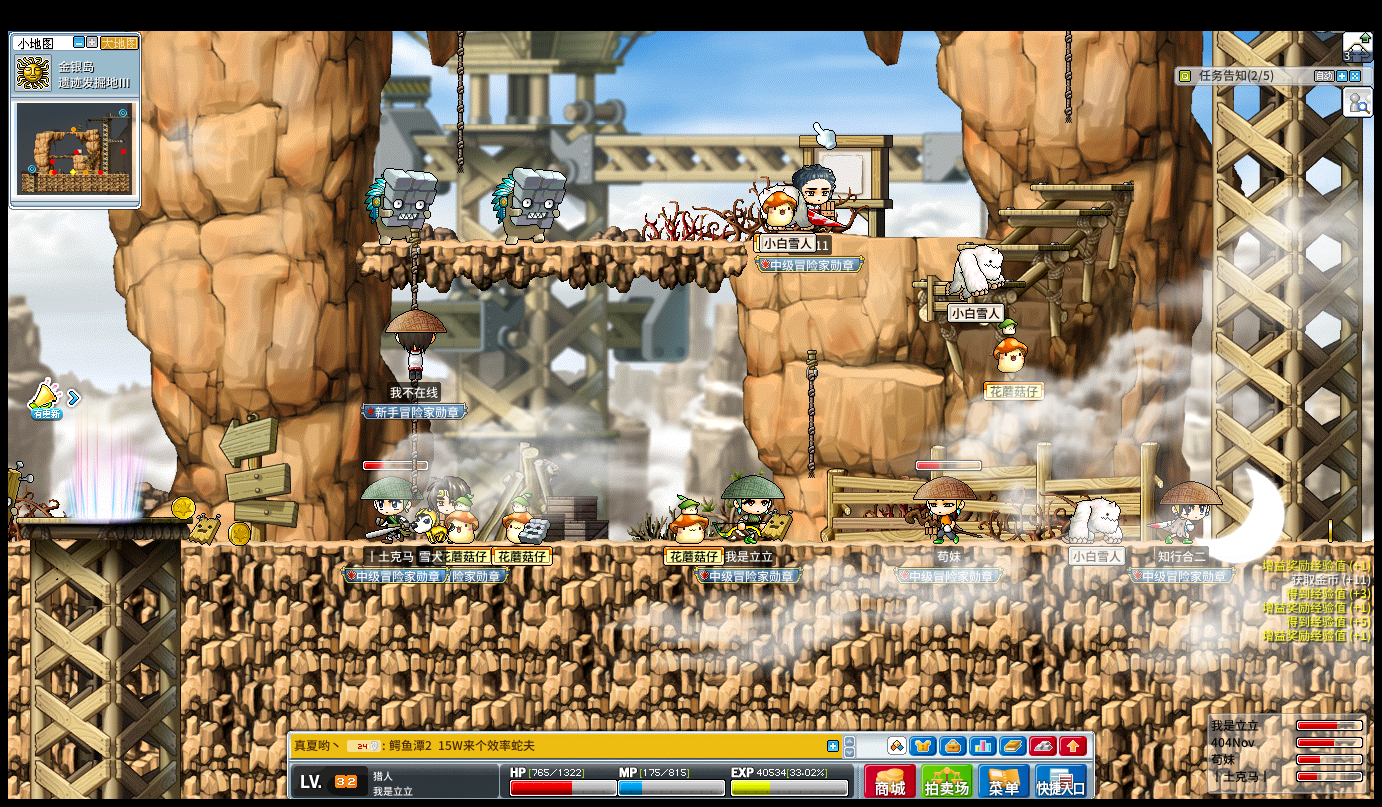floor: (181, 537, 1372, 556), (363, 238, 748, 251), (838, 363, 945, 386), (16, 515, 197, 525), (865, 233, 993, 242), (996, 207, 1113, 215), (1030, 184, 1134, 192)
monster: (492, 167, 565, 244), (364, 168, 437, 243)
rope: (803, 347, 817, 480), (455, 30, 465, 170), (405, 234, 419, 309), (1062, 30, 1071, 124)
